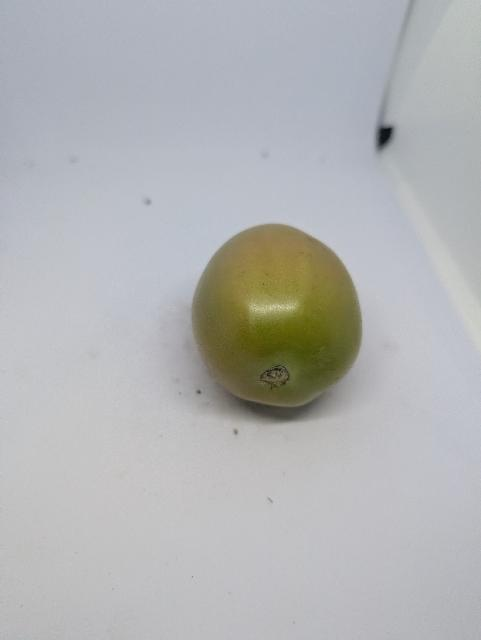breaker: (190, 220, 365, 411)
